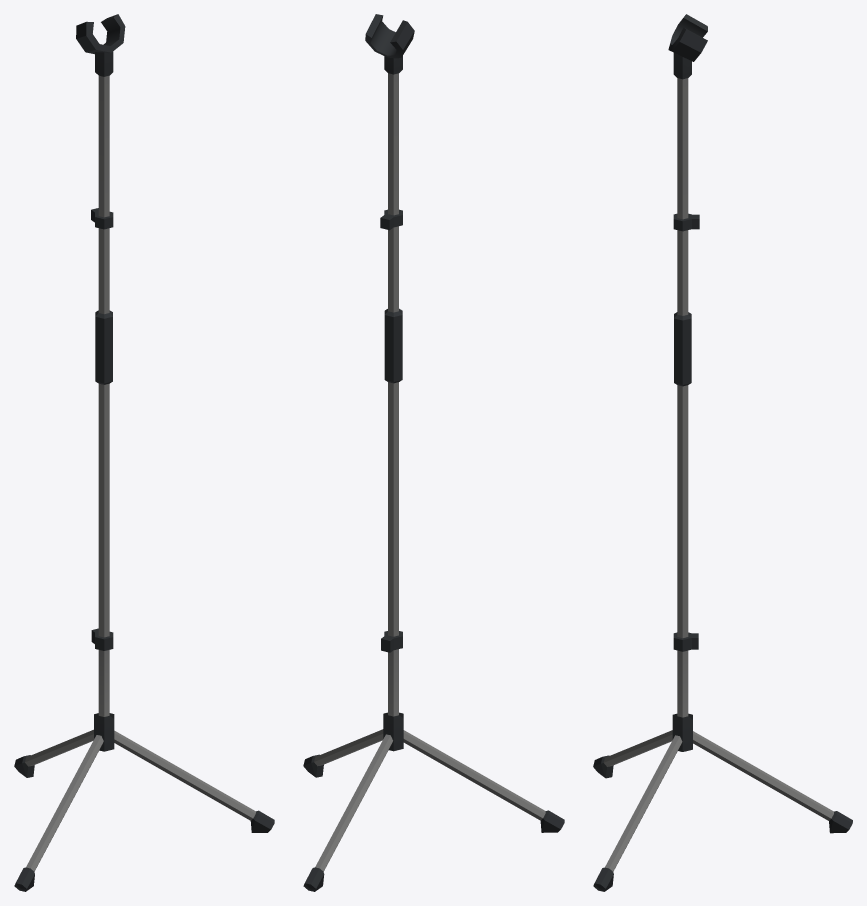
File: SM_Prop_Microphone_Stand_Empty_01.fbx
The picture shows the model from 3 angles, left to right: view 1: azimuth 30°, elevation 25°; view 2: azimuth 150°, elevation 25°; view 3: azimuth 270°, elevation 25°; orthographic projection.
Visible parts, largest first — view 1: SM_Prop_Microphone_Stand_Empty_01; view 2: SM_Prop_Microphone_Stand_Empty_01; view 3: SM_Prop_Microphone_Stand_Empty_01.
Boxes of the visible parts, x1,y1,x2,y2 form: SM_Prop_Microphone_Stand_Empty_01: [14, 14, 274, 891]; SM_Prop_Microphone_Stand_Empty_01: [303, 14, 564, 891]; SM_Prop_Microphone_Stand_Empty_01: [593, 14, 852, 891].
Bounding box in the file's own units: 48.06 × 144 × 41.88.
